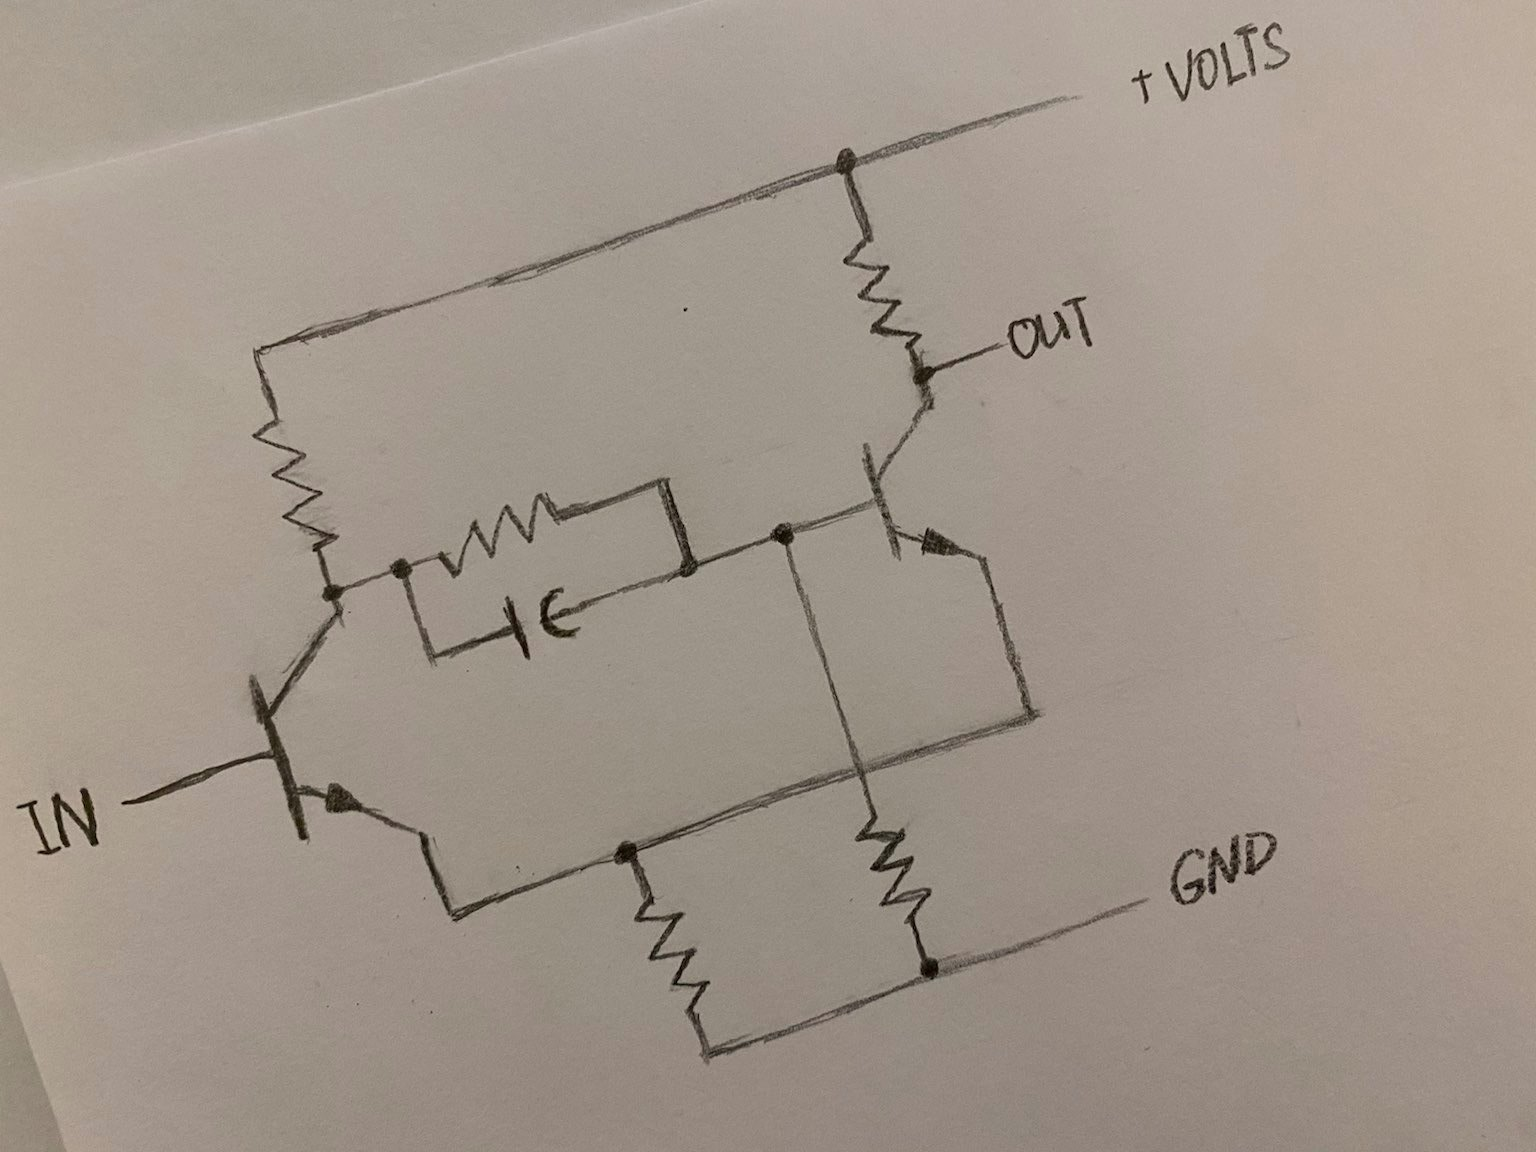capacitor.unpolarized: (487, 584, 607, 662)
crossover: (839, 745, 880, 793)
junction: (1001, 685, 1055, 745), (903, 949, 953, 1002), (599, 824, 649, 875), (425, 889, 477, 937), (825, 136, 872, 186), (762, 511, 809, 561), (689, 1039, 746, 1079), (381, 542, 423, 591), (669, 545, 709, 591), (414, 637, 454, 678), (902, 359, 945, 397), (643, 461, 682, 499), (239, 334, 279, 367), (314, 578, 356, 609)
resistor: (252, 410, 346, 558), (431, 488, 583, 578), (835, 235, 925, 351), (628, 895, 714, 1018), (845, 816, 937, 928)
terminal: (1036, 67, 1107, 113), (1111, 877, 1166, 918), (971, 333, 1010, 361), (111, 788, 140, 816)
text: (1163, 22, 1293, 102), (1170, 833, 1281, 909), (10, 785, 104, 863), (1007, 293, 1096, 363), (1126, 63, 1156, 110)
transistor: (235, 607, 431, 845), (864, 407, 1004, 584)
